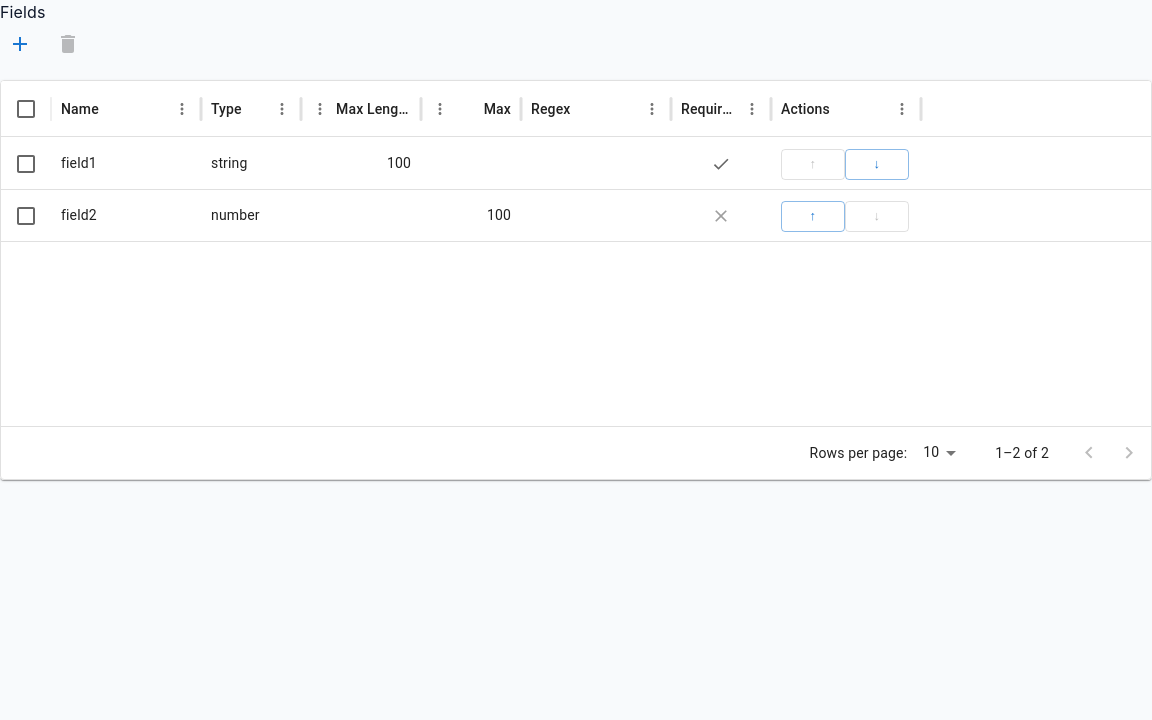
OrderedFieldsDataGrid › cancels deletion when clicking Cancel in Delete Selected dialog
Click the checkbox named "Select row": (26, 164) 14,152 -> 38,176
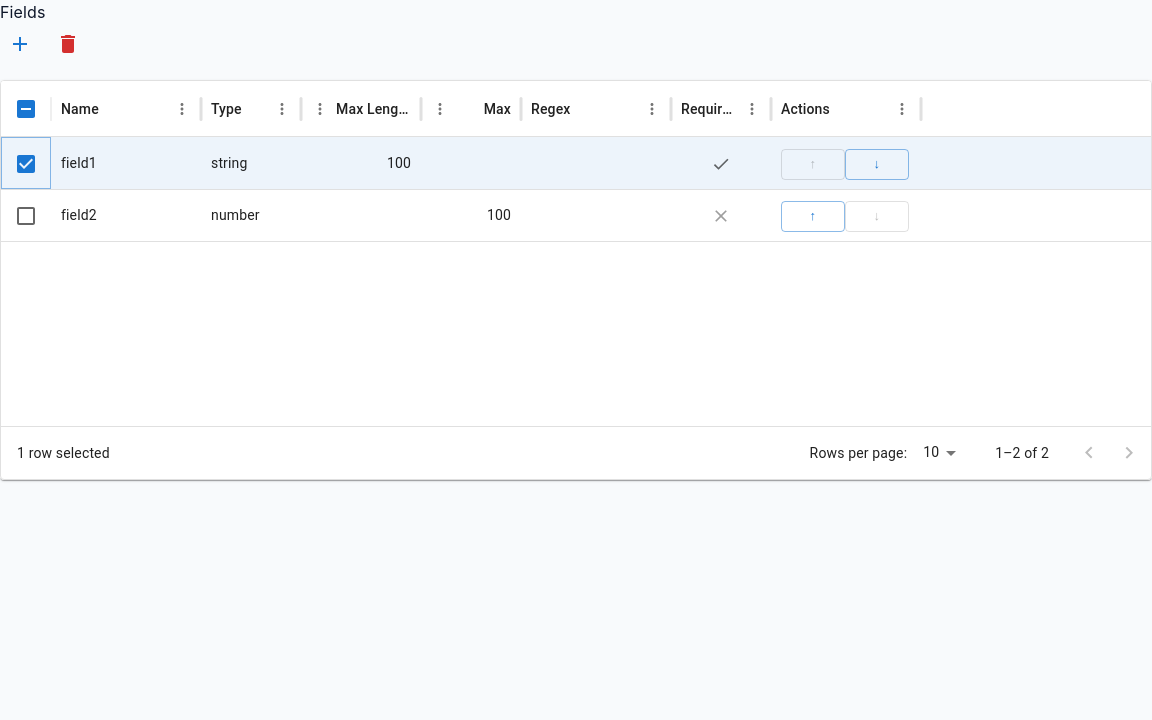
Click the button named "delete selected": (68, 44) 48,24 -> 88,64
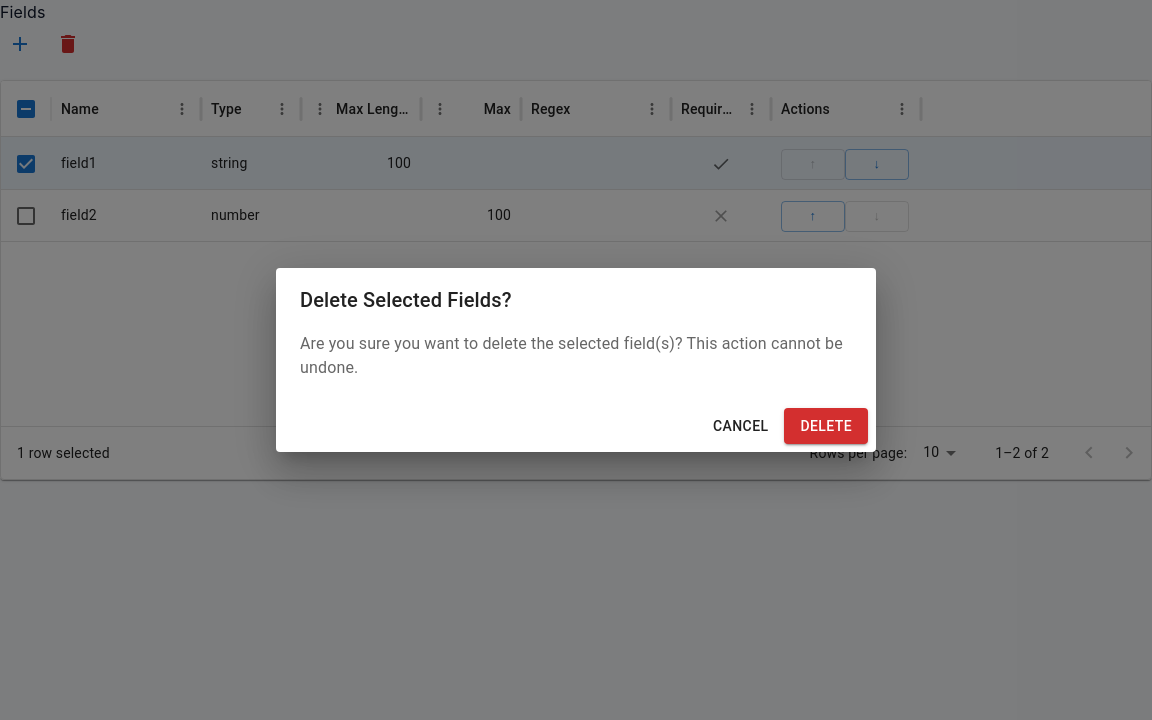
Result: the dialog is shown at 276,268 -> 876,452
Click the button "Cancel": (741, 426) 705,408 -> 776,444
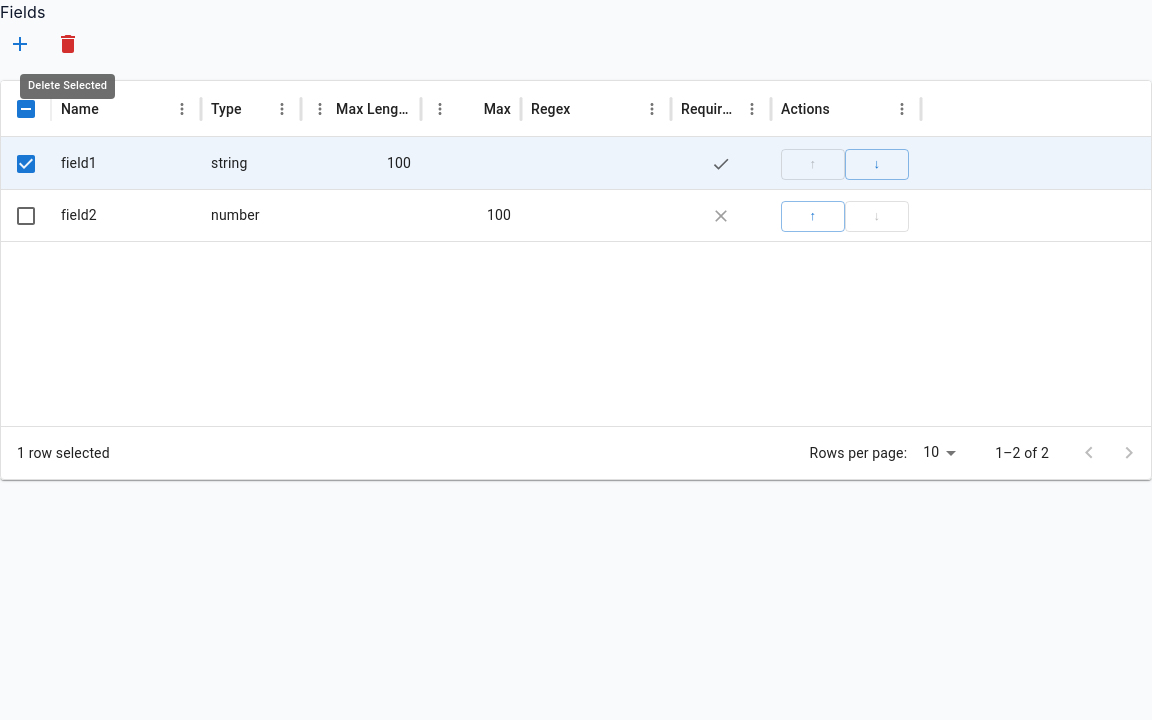
Result: the dialog is gone
